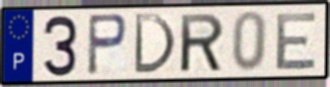0: (228, 9, 272, 75)
3: (40, 13, 80, 79)
D: (132, 12, 179, 76)
E: (274, 10, 320, 72)
P: (85, 12, 130, 78)
R: (178, 11, 226, 74)
